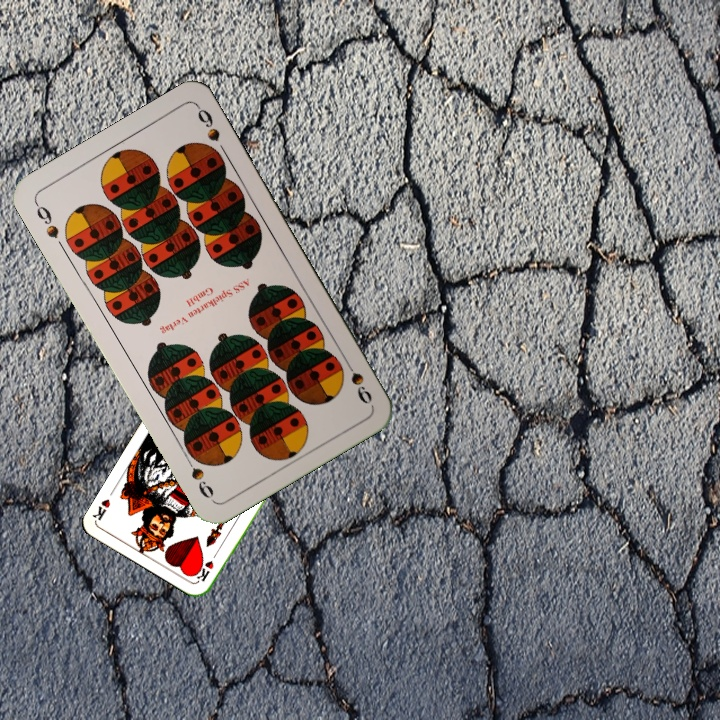HK: (192, 546, 221, 584)
S9: (339, 352, 375, 407), (31, 198, 62, 241)
